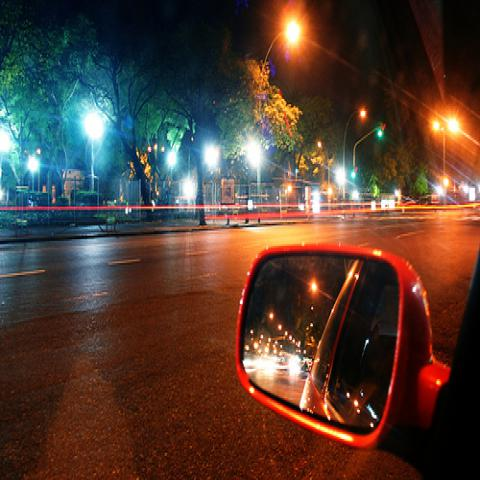car: (235, 236, 479, 478), (369, 194, 397, 212)
